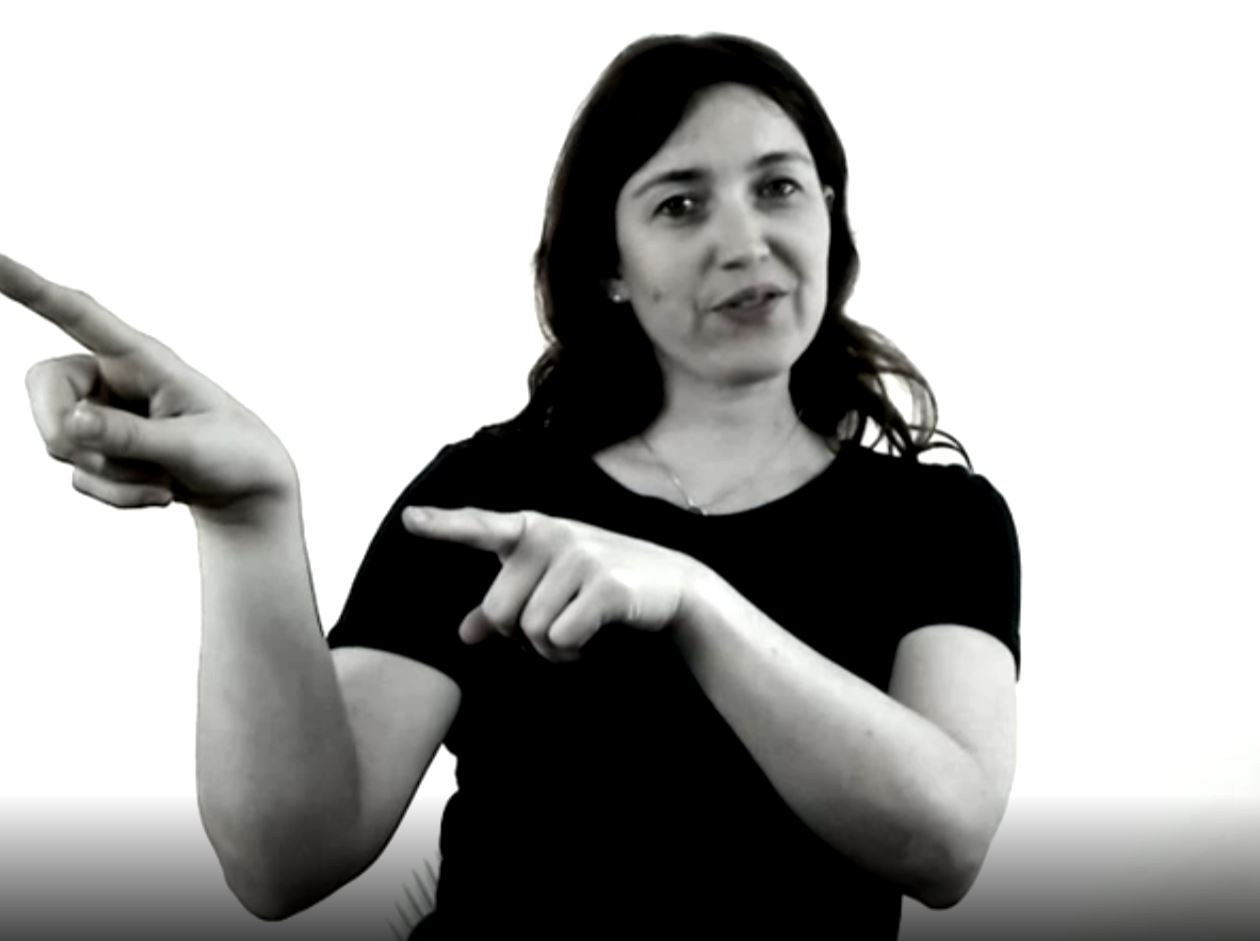go: (1, 247, 707, 747)
